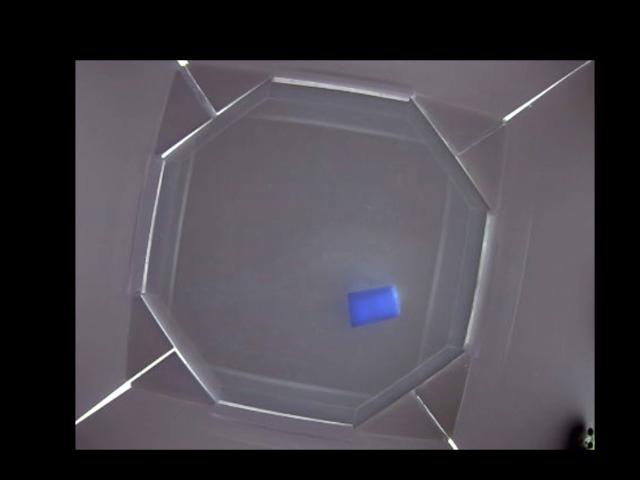Potato: (347, 287, 399, 323)
